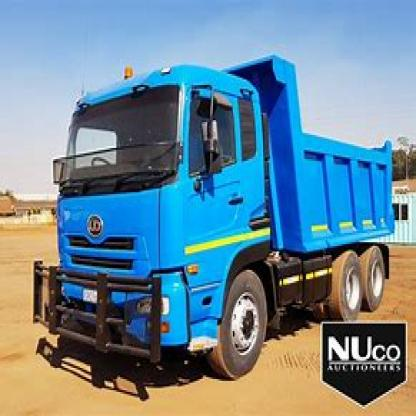dump_truck: (32, 32, 414, 396)
